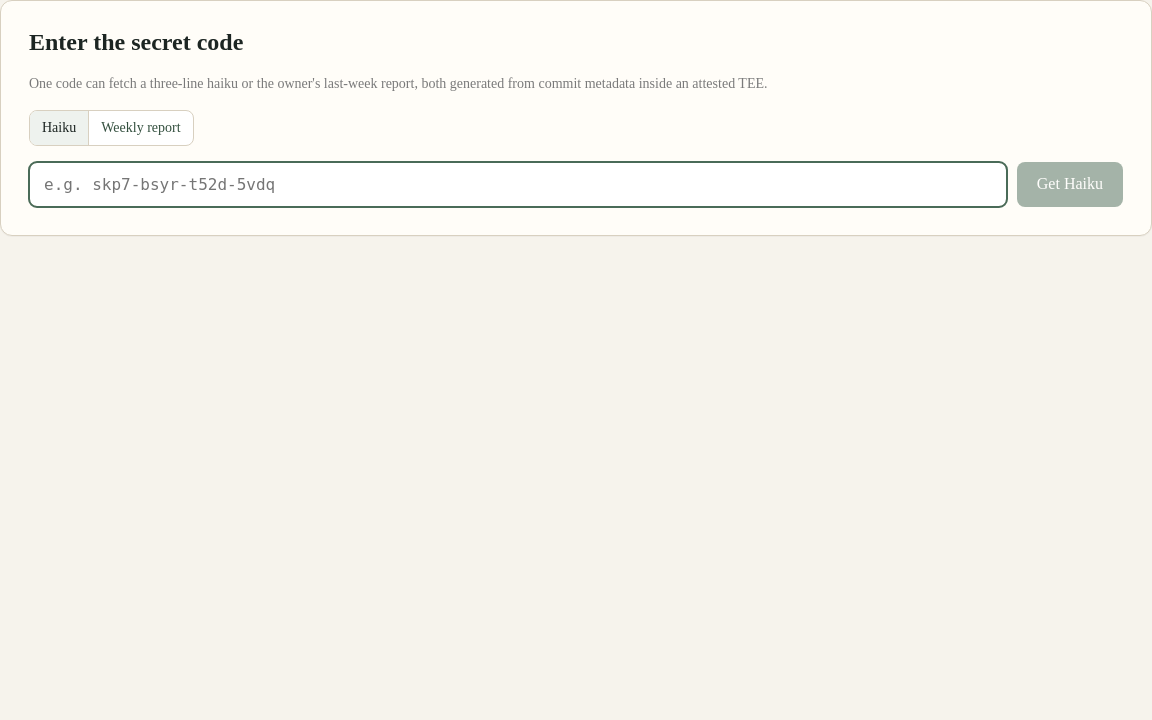
Scenario: Requester › renders a haiku and the MCP panel on success
The width and height of the screenshot is (1152, 720).
Type "aaaa-bbbb-cccc-dddd" into the field named "secret code" at (518, 184), box [29,162,1007,207]
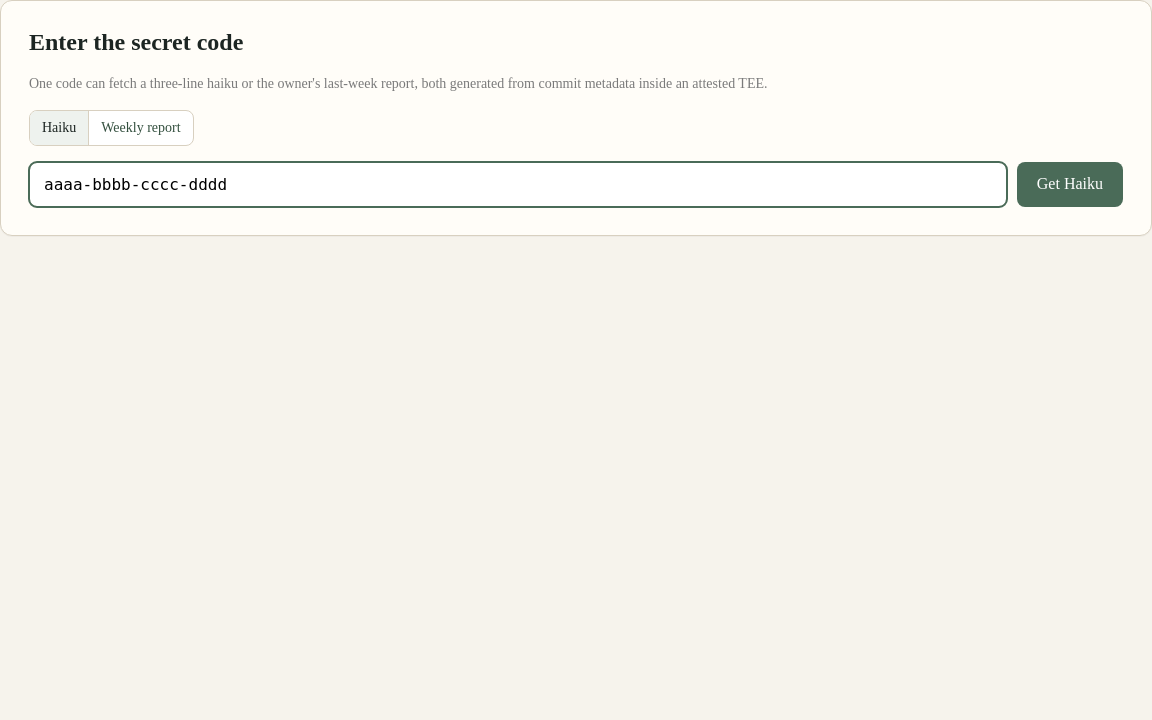
Click the button "Get Haiku" at (1070, 184), box [1017,162,1123,207]
(page scrolled)
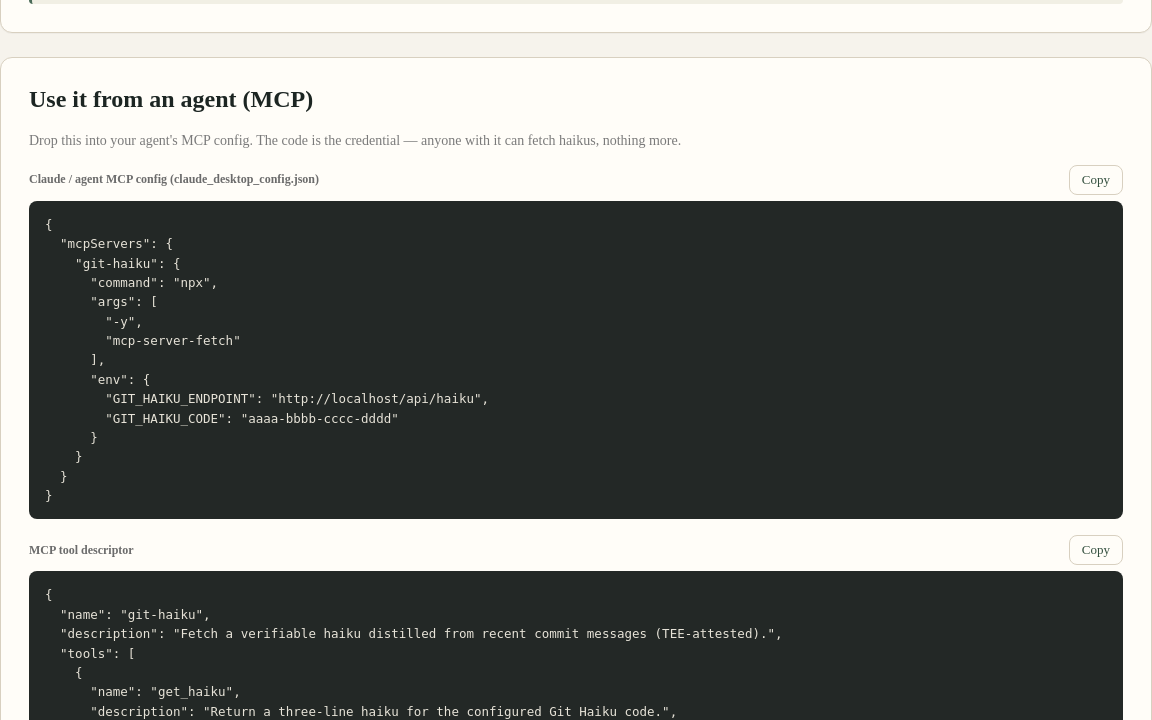
Expected: the heading "Use it from an agent (MCP)" is shown, [29,86,313,112]
Expected: the text "git_haiku" is shown, [45,217,489,503]
